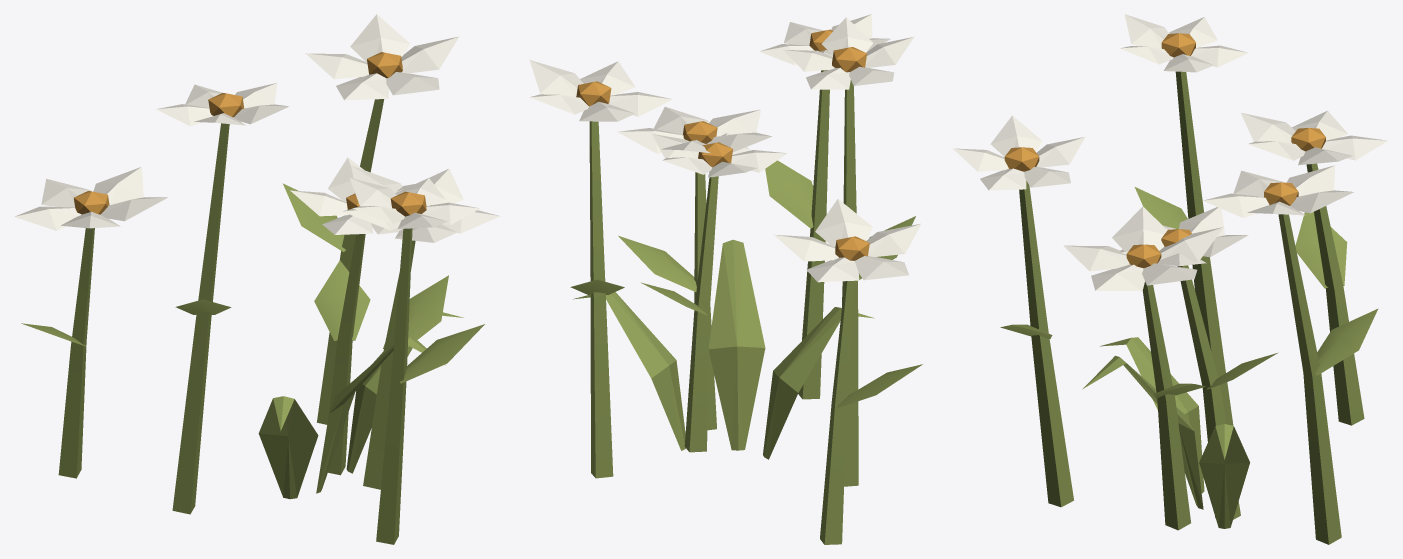
Rendered from foliage_wildflower_a.glb.
3 renders of one model, left to right at view 1: azimuth 30°, elevation 25°; view 2: azimuth 150°, elevation 25°; view 3: azimuth 270°, elevation 25°, orthographic. The views are drawn at different scales.
Parts seen in each view (by area): view 1: foliage_wildflower_a_cluster_material_00, foliage_wildflower_a_cluster_material_01, foliage_wildflower_a_cluster_material_02; view 2: foliage_wildflower_a_cluster_material_00, foliage_wildflower_a_cluster_material_01, foliage_wildflower_a_cluster_material_02; view 3: foliage_wildflower_a_cluster_material_00, foliage_wildflower_a_cluster_material_01, foliage_wildflower_a_cluster_material_02.
Part boxes in pixels (x1,y1,x2,y2): foliage_wildflower_a_cluster_material_00: [21, 99, 484, 544]; foliage_wildflower_a_cluster_material_01: [14, 14, 500, 242]; foliage_wildflower_a_cluster_material_02: [74, 52, 431, 216]; foliage_wildflower_a_cluster_material_00: [570, 70, 922, 544]; foliage_wildflower_a_cluster_material_01: [529, 14, 921, 282]; foliage_wildflower_a_cluster_material_02: [576, 29, 869, 260]; foliage_wildflower_a_cluster_material_00: [1000, 71, 1378, 544]; foliage_wildflower_a_cluster_material_01: [953, 14, 1387, 291]; foliage_wildflower_a_cluster_material_02: [1004, 33, 1325, 268].
Bounding box in the file's own units: 0.5918 × 0.5791 × 0.5375.
